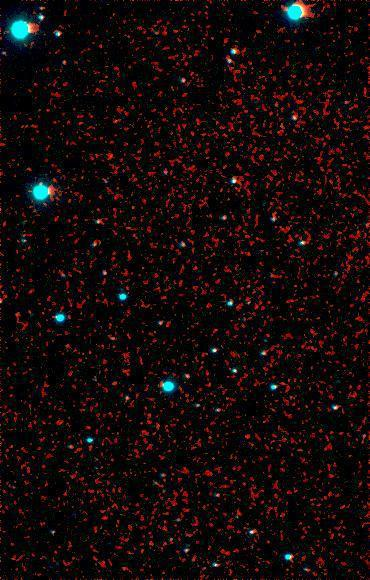star: (94, 140, 124, 170)
